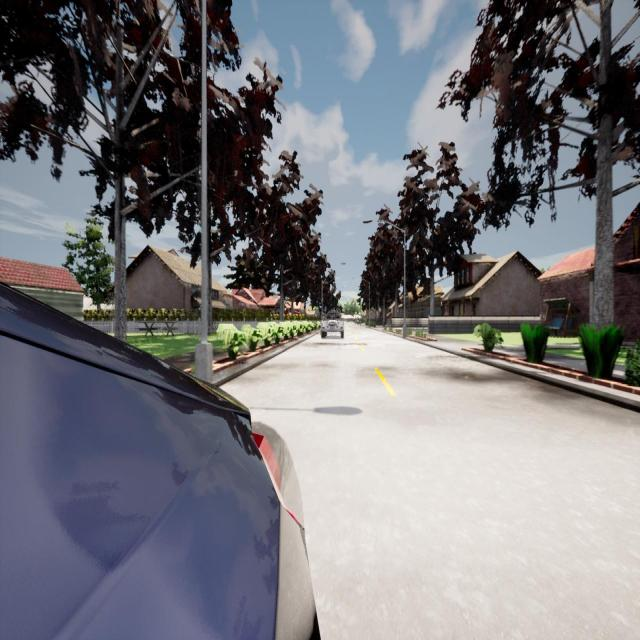Vehicle: (0, 284, 322, 640), (320, 311, 344, 339)
